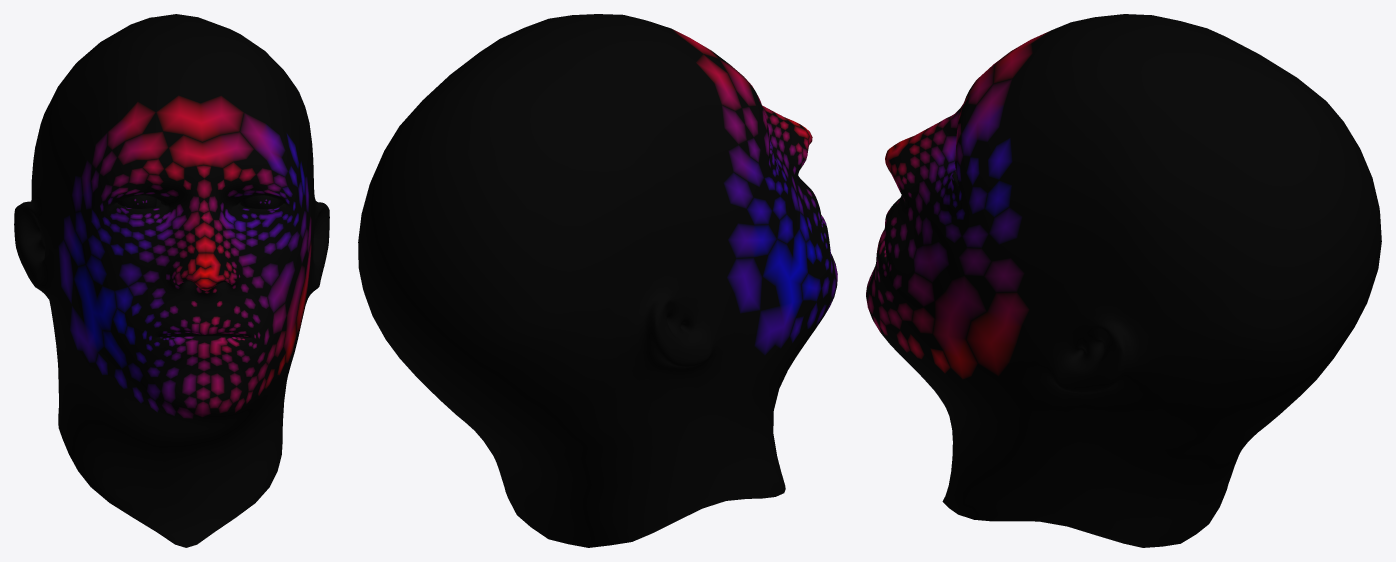
The model's file is colored_left.obj.
3 views of the same model, side by side, from view 1: azimuth 30°, elevation 25°; view 2: azimuth 150°, elevation 25°; view 3: azimuth 270°, elevation 25° (orthographic). The views are drawn at different scales.
Bounding box in the file's own units: 0.9151 × 1.36 × 1.24.
